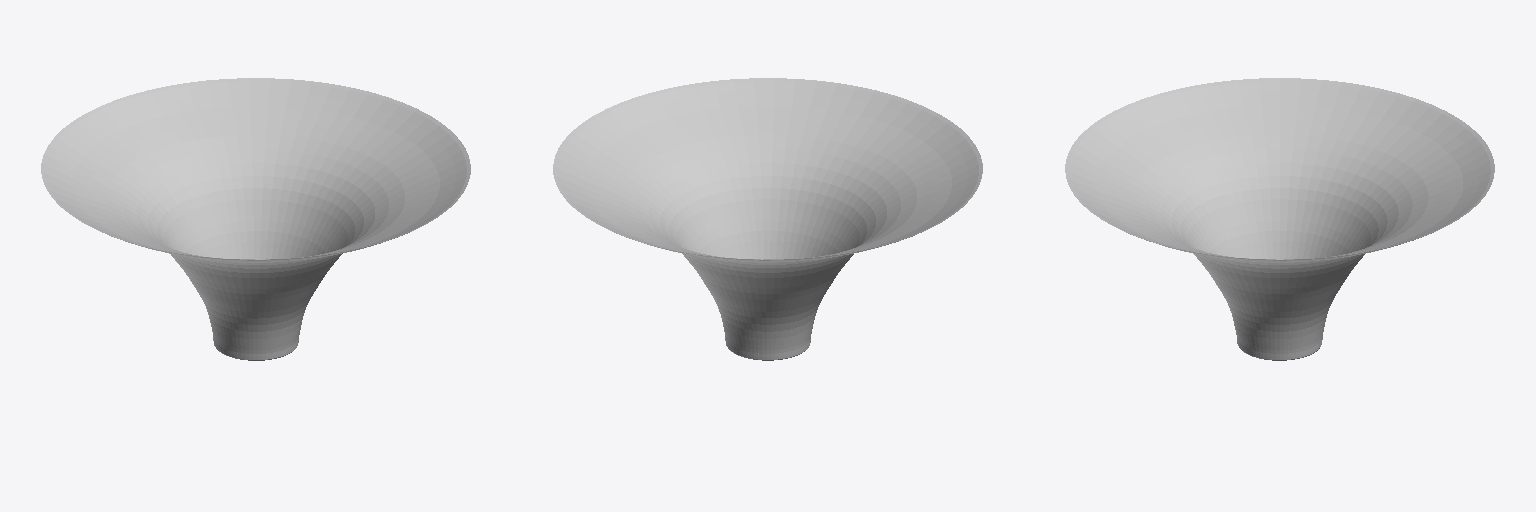
The model's file is smooth funnel.obj.
3 views of the same model, side by side, from view 1: azimuth 30°, elevation 25°; view 2: azimuth 150°, elevation 25°; view 3: azimuth 270°, elevation 25° (orthographic).
Visible parts, largest first — view 1: Circle; view 2: Circle; view 3: Circle.
Boxes of the visible parts, x1=… form: Circle: x1=41, y1=78, x2=470, y2=360; Circle: x1=553, y1=78, x2=982, y2=360; Circle: x1=1065, y1=78, x2=1494, y2=360.
Bounding box in the file's own units: 4.83 × 2.16 × 4.83.